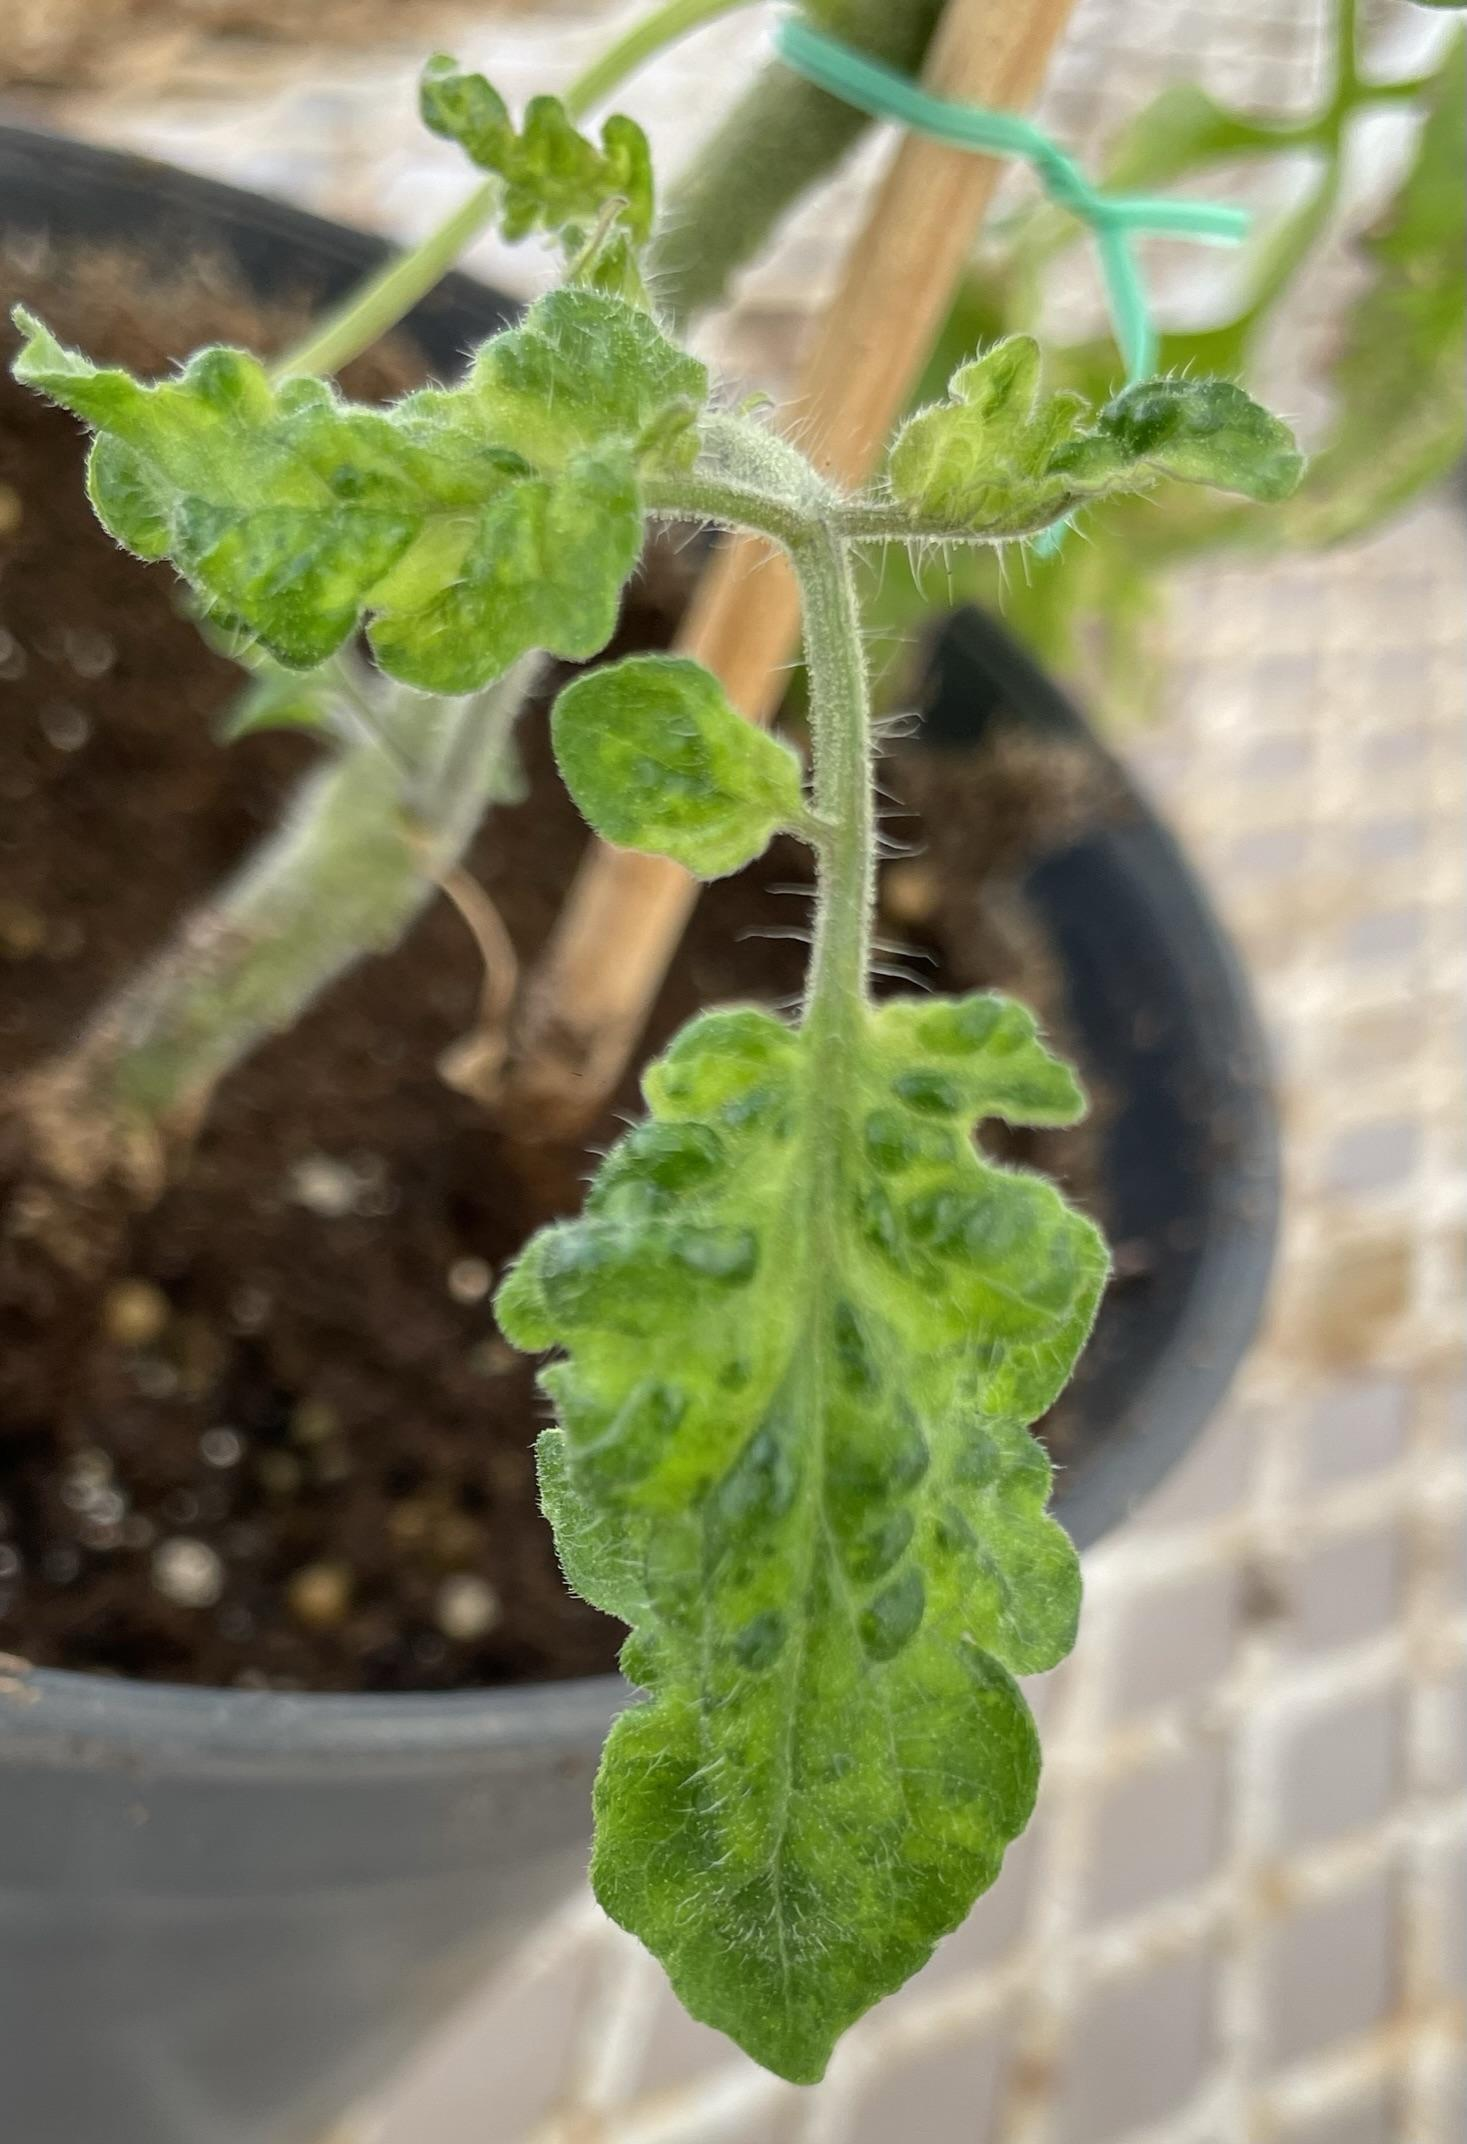Rugose leaf: (491, 935, 1113, 2095), (16, 288, 707, 696), (888, 336, 1302, 536), (553, 653, 812, 880)
Rugose stem: (792, 528, 875, 1026)
